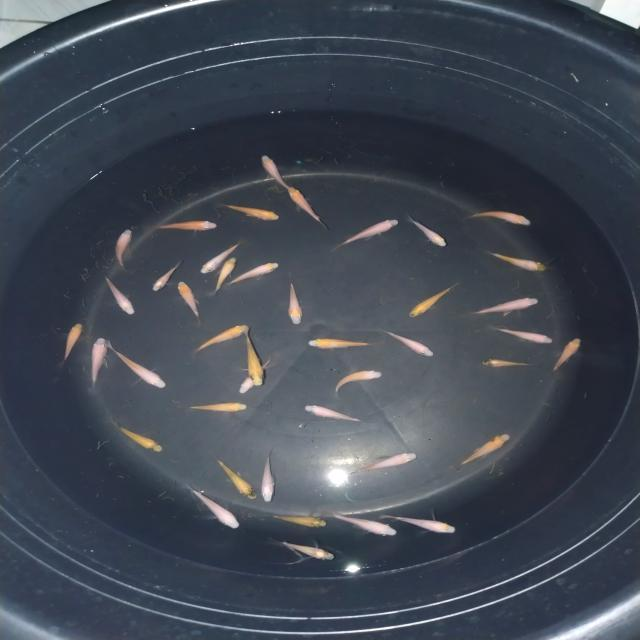nila: (106, 338, 170, 391), (181, 483, 246, 532), (208, 454, 260, 504), (352, 445, 425, 480), (404, 280, 464, 320), (456, 430, 516, 468), (193, 317, 250, 357), (376, 323, 436, 360), (324, 510, 402, 538), (331, 218, 401, 249), (378, 510, 458, 536), (282, 183, 328, 228), (334, 364, 389, 401), (461, 204, 537, 230), (53, 318, 89, 372), (462, 294, 543, 318), (216, 198, 285, 226), (484, 248, 552, 276), (198, 237, 248, 274), (116, 420, 169, 454), (548, 331, 588, 376), (255, 152, 298, 192), (98, 272, 136, 317), (243, 327, 270, 389), (486, 322, 555, 346), (301, 404, 376, 426), (85, 332, 112, 392), (228, 258, 282, 288), (275, 538, 338, 563), (174, 280, 209, 323), (406, 214, 449, 248), (258, 453, 285, 507), (236, 358, 274, 396), (207, 252, 241, 294), (150, 215, 223, 234), (284, 272, 306, 328), (112, 223, 136, 273), (304, 336, 378, 352), (150, 260, 187, 292), (268, 512, 332, 528), (475, 356, 538, 372), (190, 400, 252, 415)
